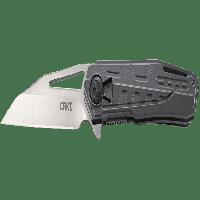knife: (2, 58, 200, 131)
